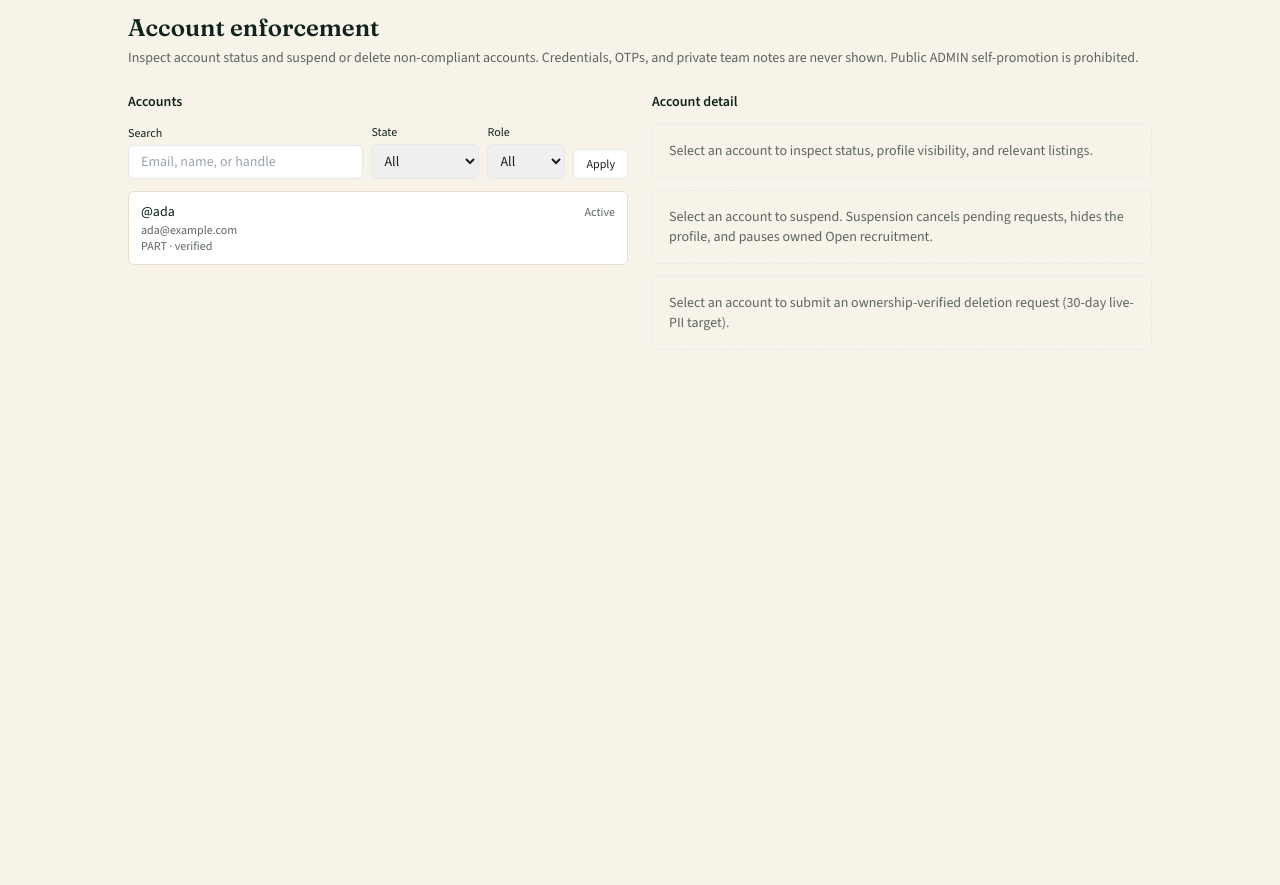
Test: AccountEnforcementPage (US-027 / #255) › preserves reason and shows failure when suspend API rejects
The image size is (1280, 885).
Click the button "@ada Active ada@example.com PART · verified". click: (158, 212)
box: [129, 192, 627, 264]
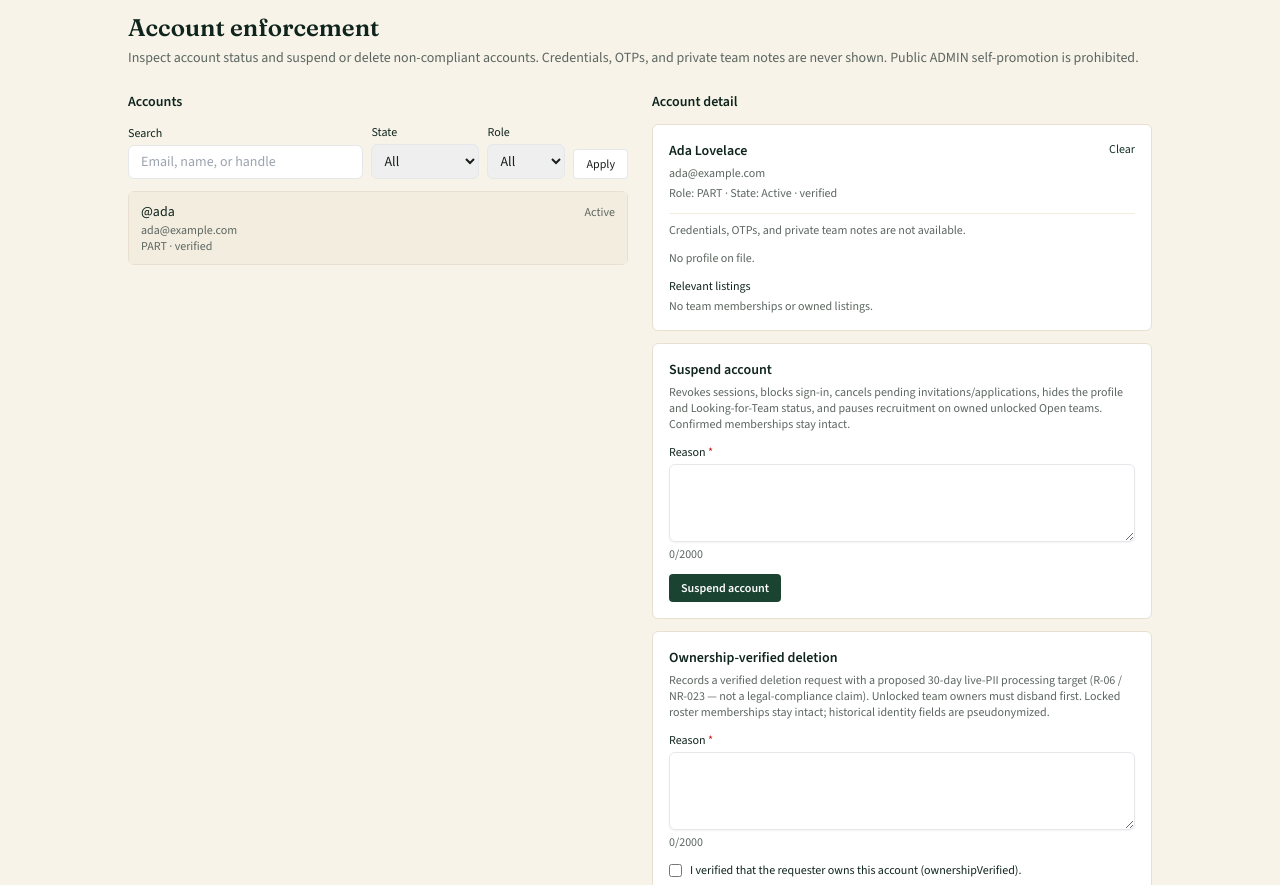
Now the form with test id "suspend-account-form" is shown, box [652, 343, 1152, 619]
Type "Spam" into the text box with test id "suspend-reason". click: (902, 503)
box: [669, 464, 1135, 542]
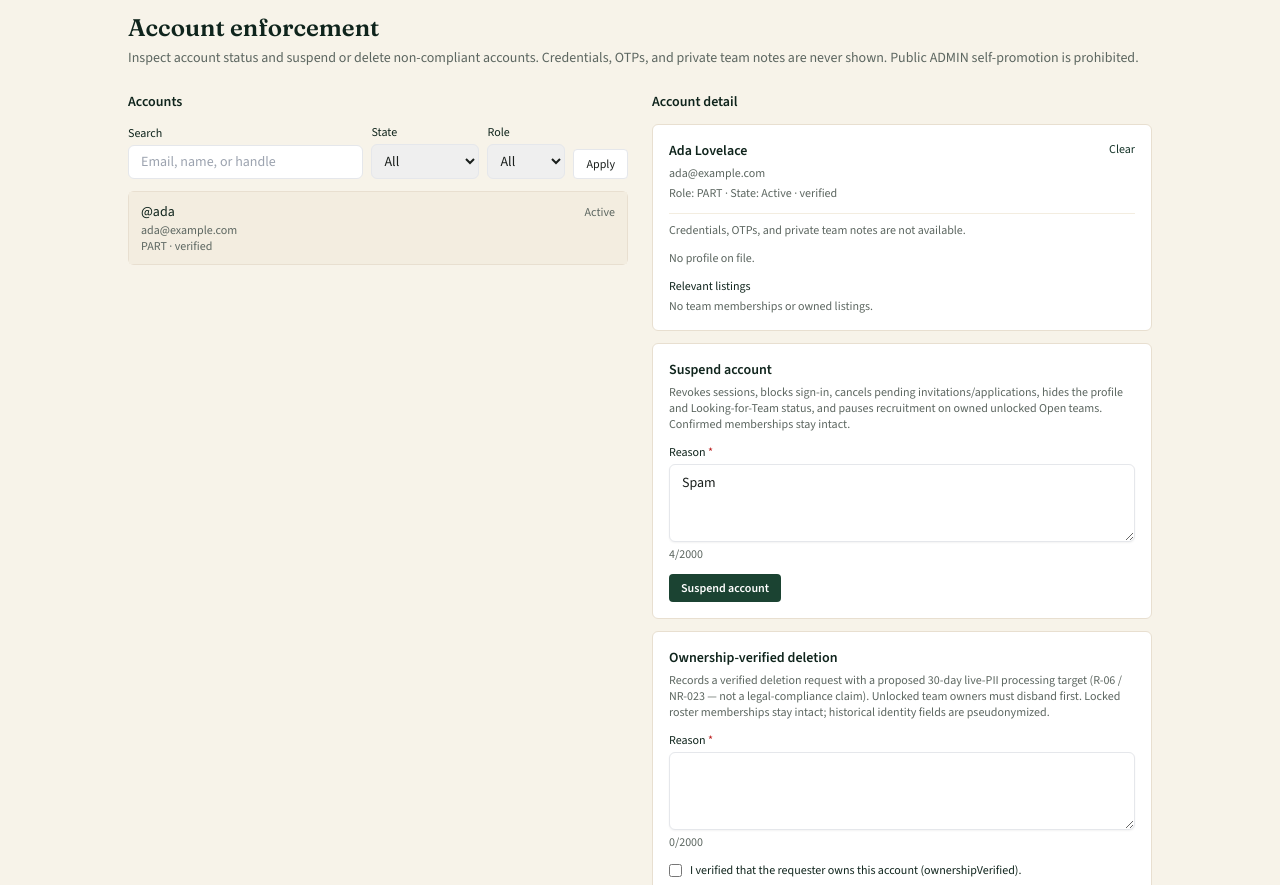
Click the button with test id "suspend-submit". click: (725, 588)
box: [669, 574, 781, 602]
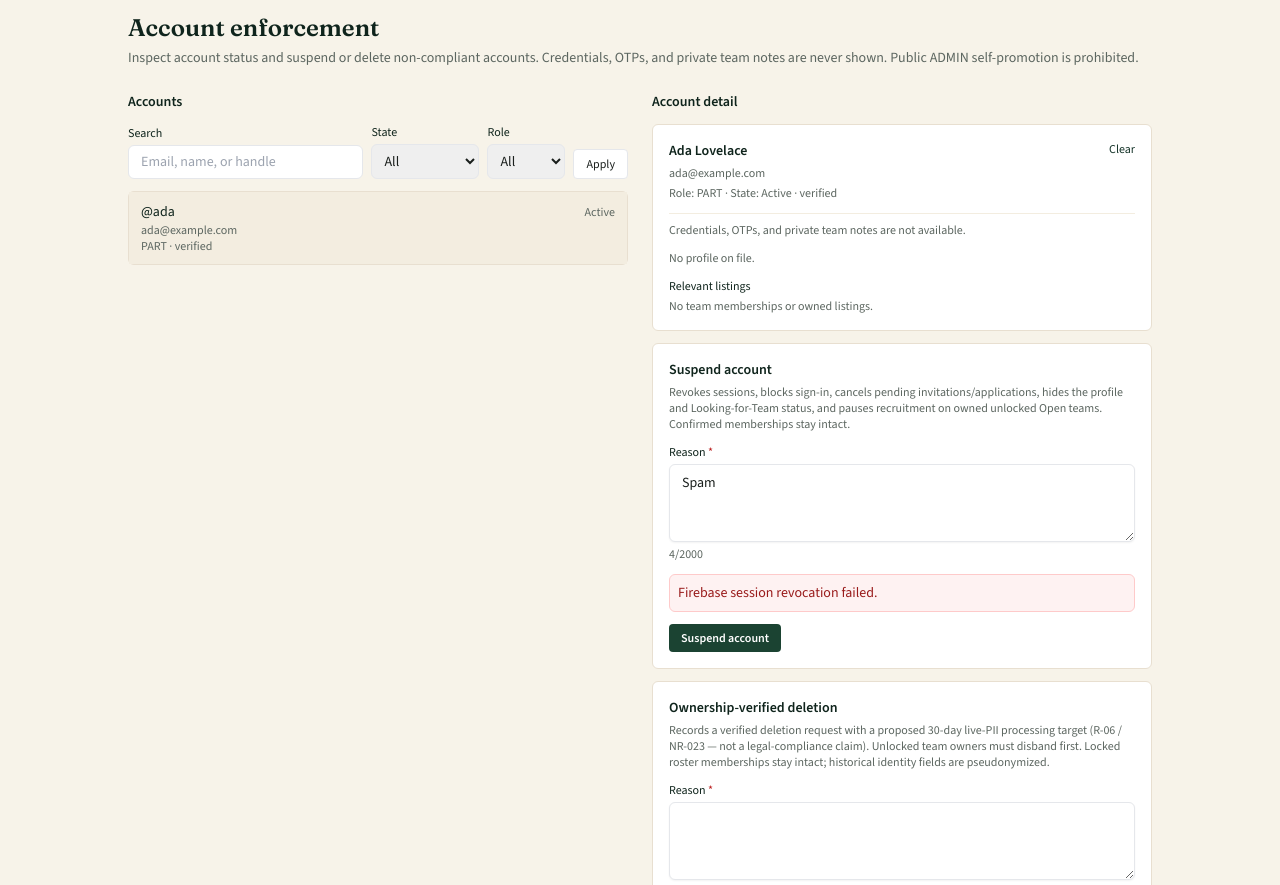
Now the message with test id "suspend-form-error" shows "Firebase session", box [678, 583, 878, 602]
